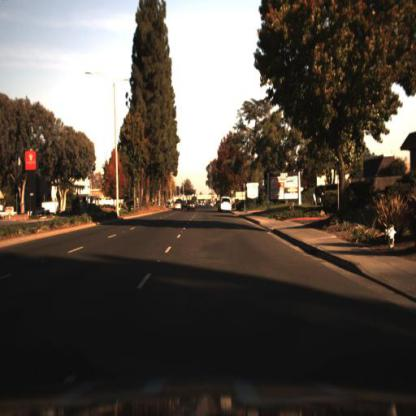car: (218, 191, 236, 220), (173, 199, 186, 215), (185, 197, 197, 214)
